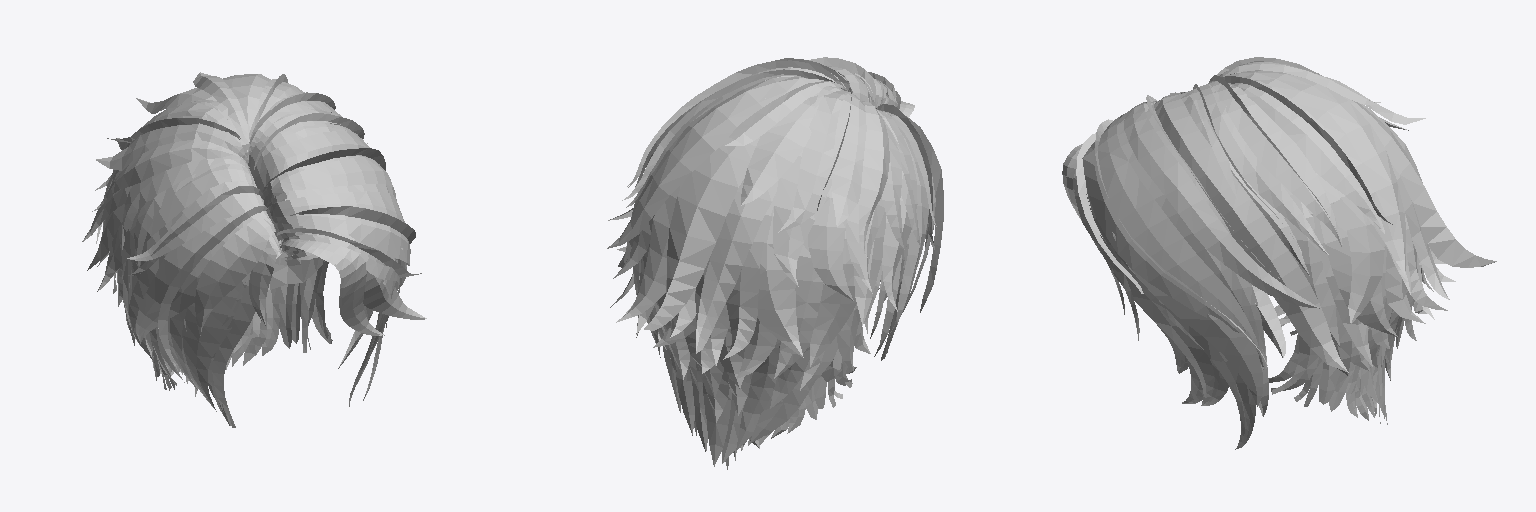
3 renders of one model, left to right at view 1: azimuth 30°, elevation 25°; view 2: azimuth 150°, elevation 25°; view 3: azimuth 270°, elevation 25°, orthographic.
Parts seen in each view (by area): view 1: Mesh_0045_ncl1_2; view 2: Mesh_0045_ncl1_2; view 3: Mesh_0045_ncl1_2.
Boxes of the visible parts, x1=… form: Mesh_0045_ncl1_2: x1=82, y1=72, x2=426, y2=427; Mesh_0045_ncl1_2: x1=607, y1=57, x2=943, y2=469; Mesh_0045_ncl1_2: x1=1062, y1=57, x2=1496, y2=449.
Bounding box in the file's own units: 50.17 × 56.22 × 62.96.